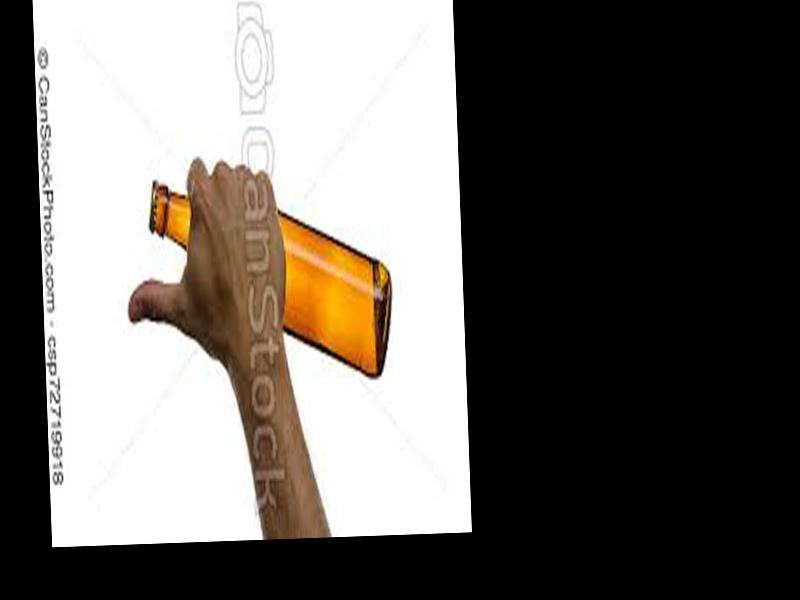Beer: (149, 175, 394, 387)
